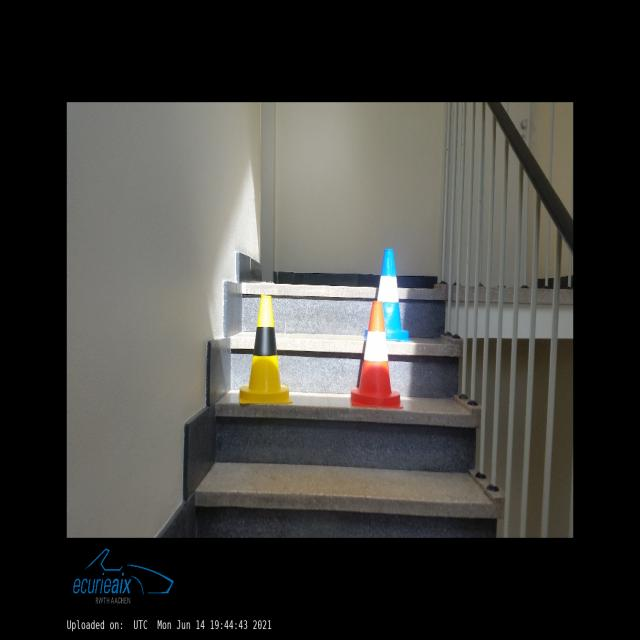blue_cone: (364, 249, 410, 341)
orange_cone: (351, 301, 403, 408)
yellow_cone: (238, 295, 292, 404)
